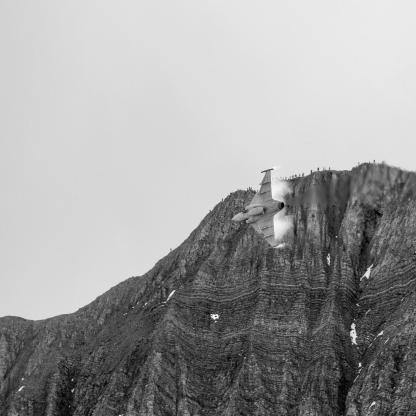JAS39: (230, 169, 294, 250)
